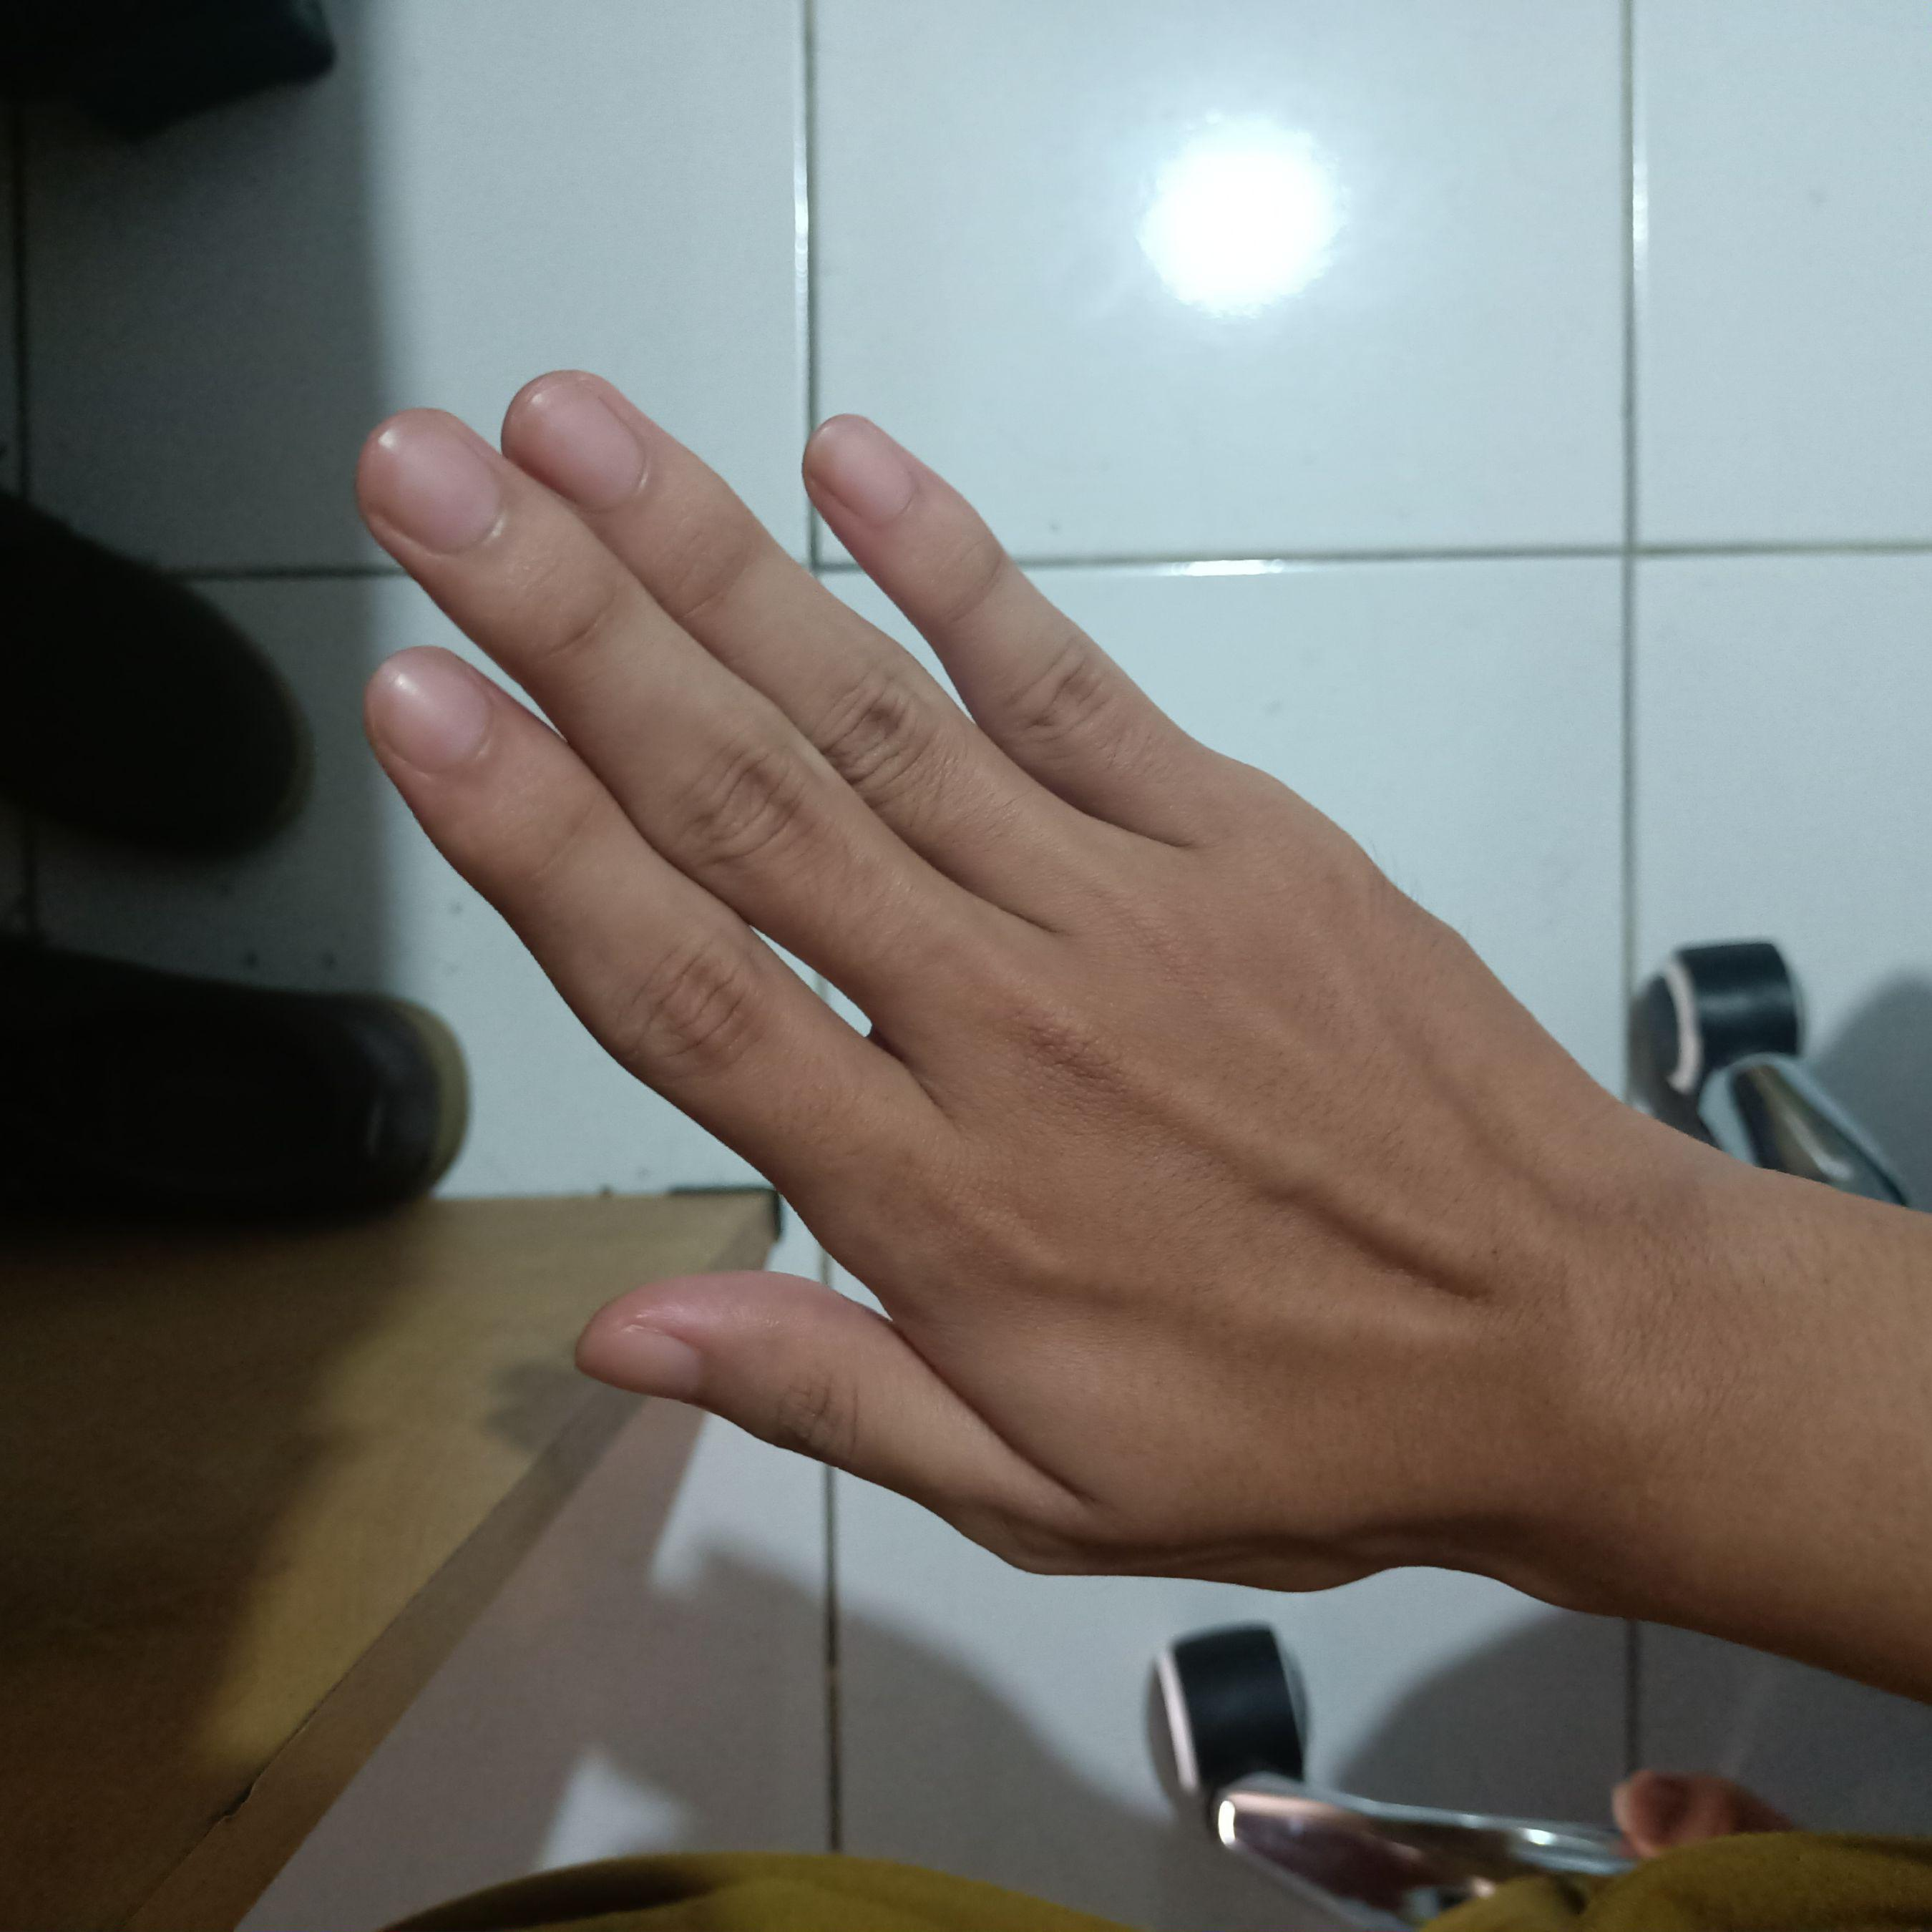paper: (320, 343, 1615, 1612)
